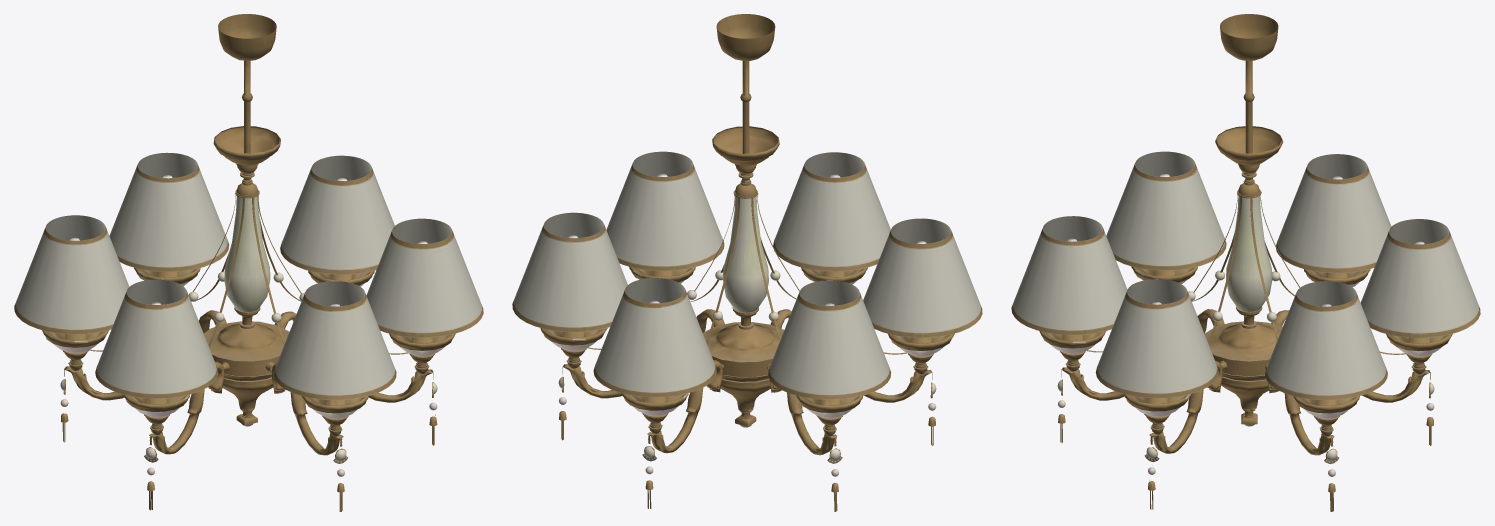
The model's file is Chandelier_01.glb.
3 renders of one model, left to right at view 1: azimuth 30°, elevation 25°; view 2: azimuth 150°, elevation 25°; view 3: azimuth 270°, elevation 25°, orthographic.
Parts seen in each view (by area): view 1: Chandelier_01; view 2: Chandelier_01; view 3: Chandelier_01.
Boxes of the visible parts, x1=… form: Chandelier_01: x1=14, y1=14, x2=483, y2=511; Chandelier_01: x1=512, y1=14, x2=982, y2=511; Chandelier_01: x1=1011, y1=14, x2=1480, y2=511.
Bounding box in the file's own units: 0.7465 × 0.7982 × 0.8155.
Materials: 2 (1 with a texture image).
